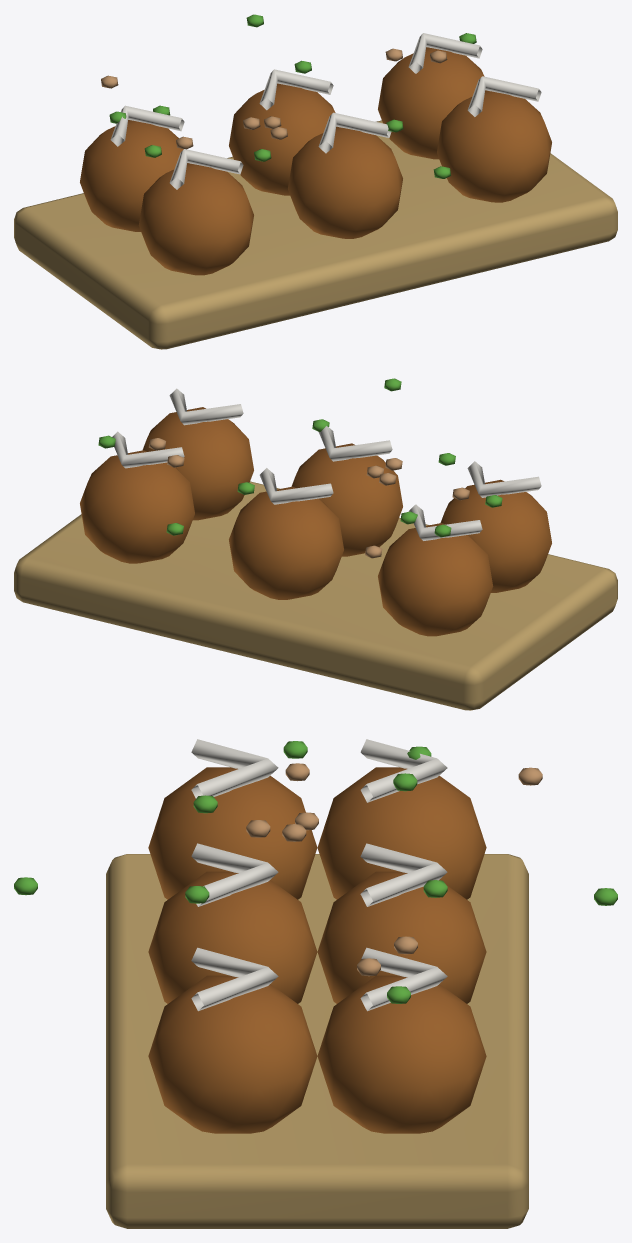
Rendered from item_dish_takoyaki.glb.
The picture shows the model from 3 angles, top to bottom: view 1: azimuth 30°, elevation 25°; view 2: azimuth 150°, elevation 25°; view 3: azimuth 270°, elevation 25°; orthographic projection. The views are drawn at different scales.
Visible parts, largest first — view 1: item_dish_takoyaki_main; view 2: item_dish_takoyaki_main; view 3: item_dish_takoyaki_main.
Part boxes in pixels (<box>): item_dish_takoyaki_main: <box>14,14,617,349</box>; item_dish_takoyaki_main: <box>14,378,617,710</box>; item_dish_takoyaki_main: <box>14,739,617,1228</box>.
Bounding box in the file's own units: 0.22 × 0.0668 × 0.1714.
